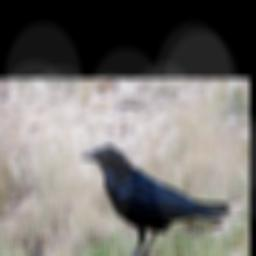Crow: (79, 144, 232, 256)
